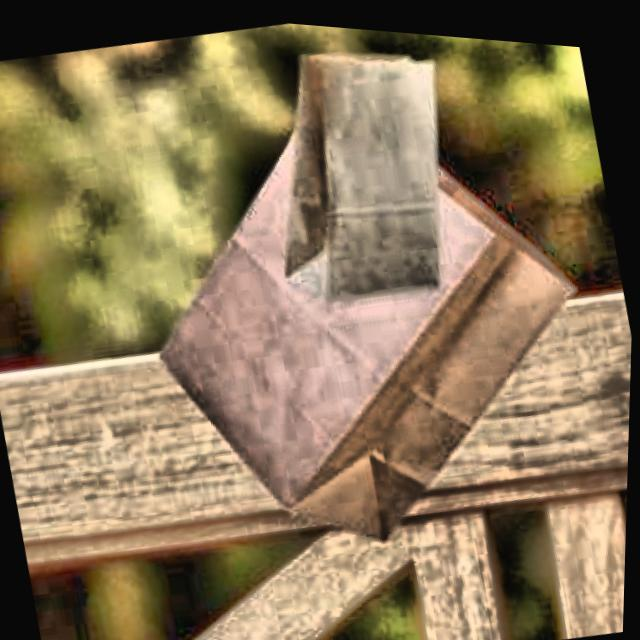Paper-bag: (88, 30, 638, 596), (236, 16, 505, 348)
